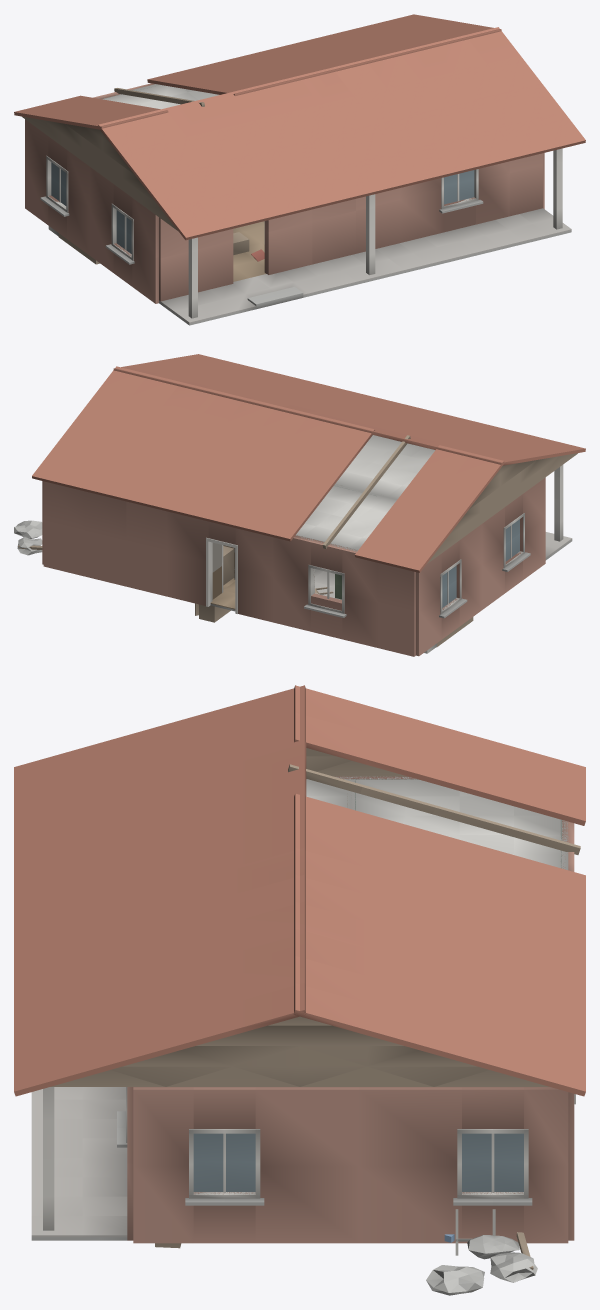
Rendered from casa_r11.glb.
The picture shows the model from 3 angles, top to bottom: view 1: azimuth 30°, elevation 25°; view 2: azimuth 150°, elevation 25°; view 3: azimuth 270°, elevation 25°; orthographic projection. The views are drawn at different scales.
Parts seen in each view (by area): view 1: longe, ext, dentro, detalhe; view 2: longe, ext, dentro, detalhe, guarda_roupa_quarto2; view 3: longe, ext, dentro, detalhe.
Boxes of the visible parts, x1,y1,x2,y2 form: longe: (14, 14, 585, 240); ext: (25, 83, 544, 303); dentro: (98, 84, 571, 325); detalhe: (40, 148, 562, 318); longe: (32, 354, 585, 572); ext: (42, 477, 545, 656); dentro: (210, 435, 572, 611); detalhe: (14, 465, 563, 618); guarda_roupa_quarto2: (195, 546, 234, 622); longe: (14, 685, 585, 1096); ext: (127, 776, 574, 1243); dentro: (31, 776, 568, 1240); detalhe: (43, 1087, 575, 1295).
Size of what is drawn, in the model's own units: 15.5 by 5.61 by 10.13.
